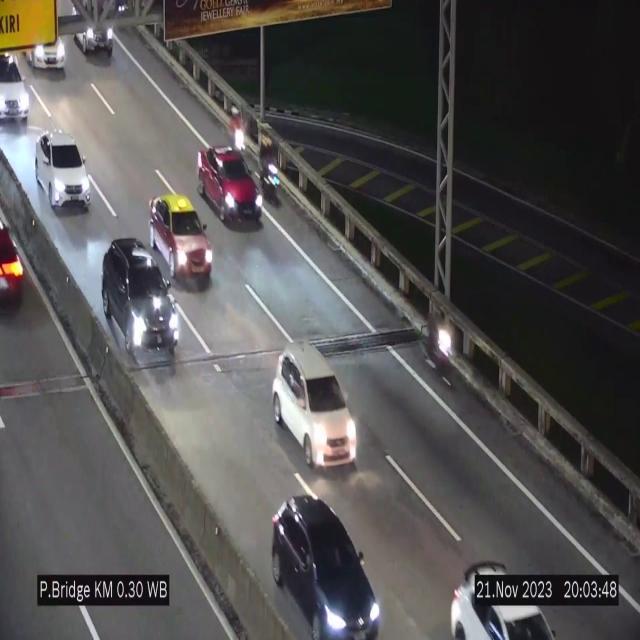Car: (270, 487, 386, 640), (439, 537, 569, 640), (272, 344, 358, 467), (100, 237, 188, 354), (148, 194, 212, 288), (0, 187, 40, 331), (197, 145, 263, 227), (35, 130, 91, 210), (0, 36, 38, 131), (27, 4, 69, 76), (72, 1, 121, 59)
Motorcycle: (430, 311, 460, 396), (262, 139, 283, 208), (228, 101, 247, 162)
